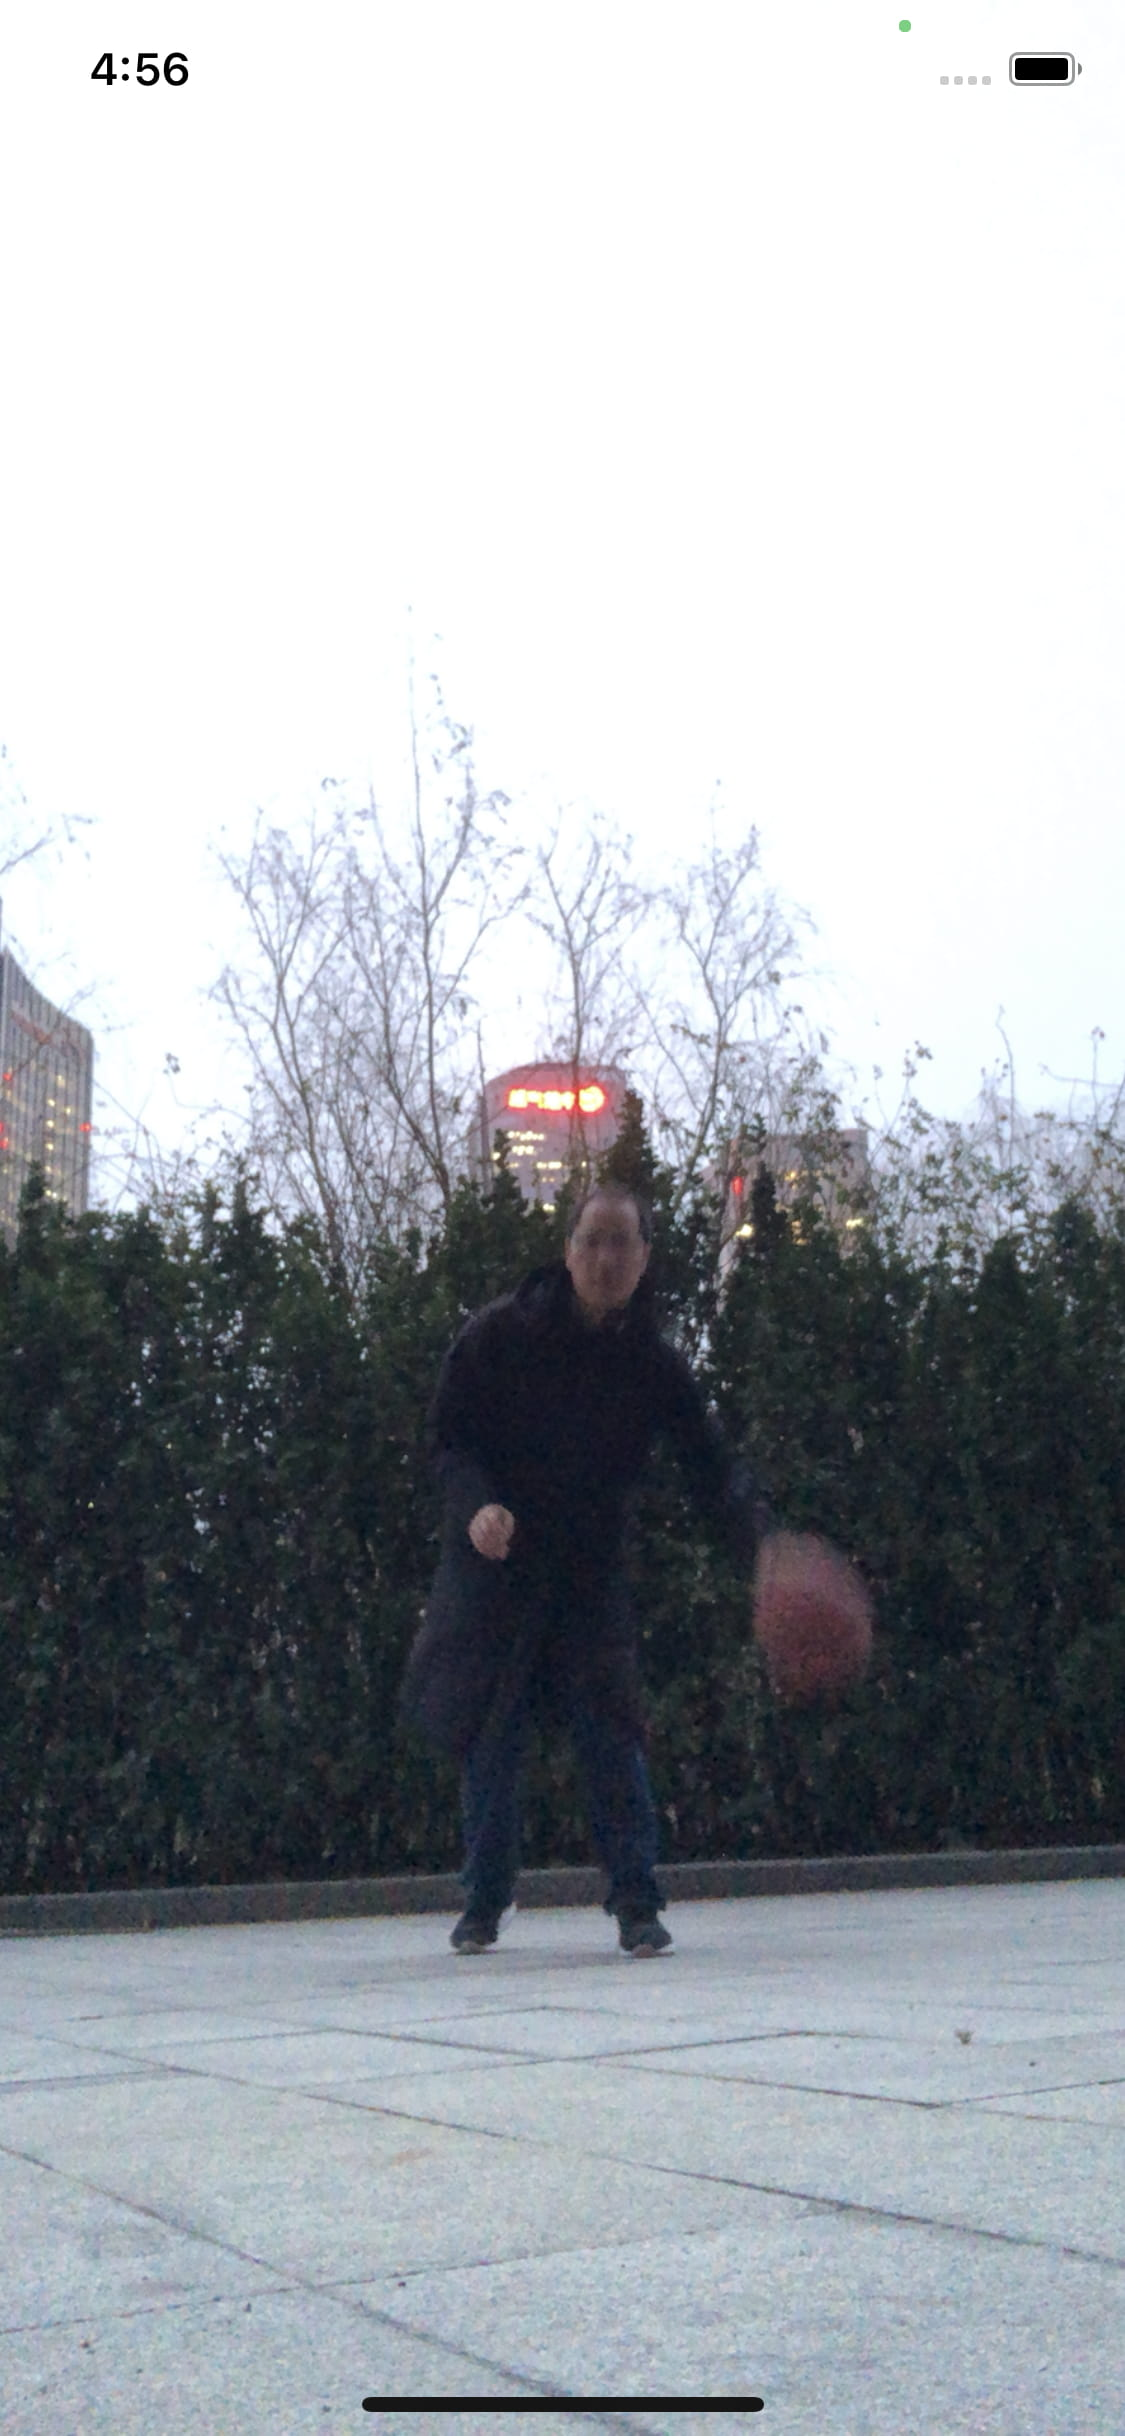ball: (746, 1568, 875, 1693)
